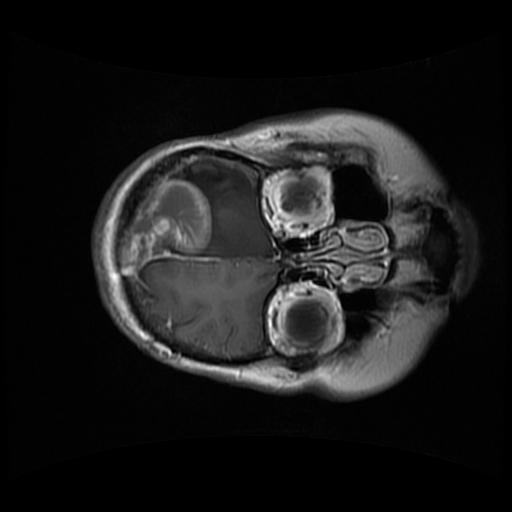glioma: (121, 178, 213, 276)
